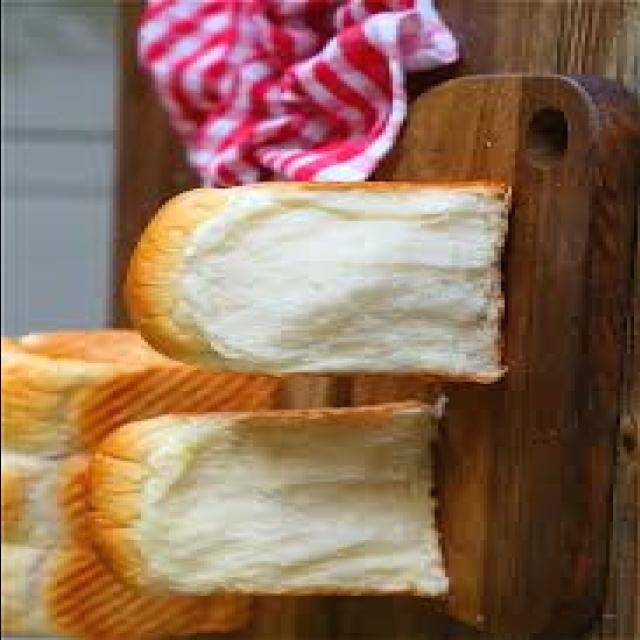roti tawar: (122, 177, 514, 384), (84, 403, 451, 598)
